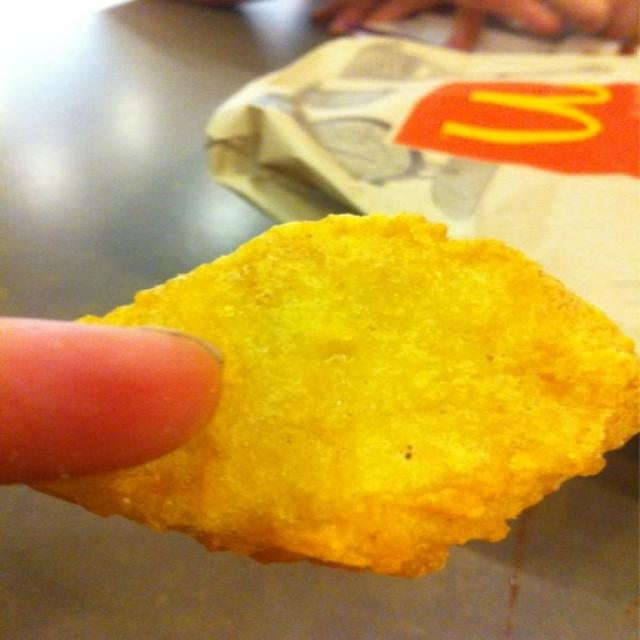鸡肉料理 含炸鸡: (27, 186, 632, 612)
